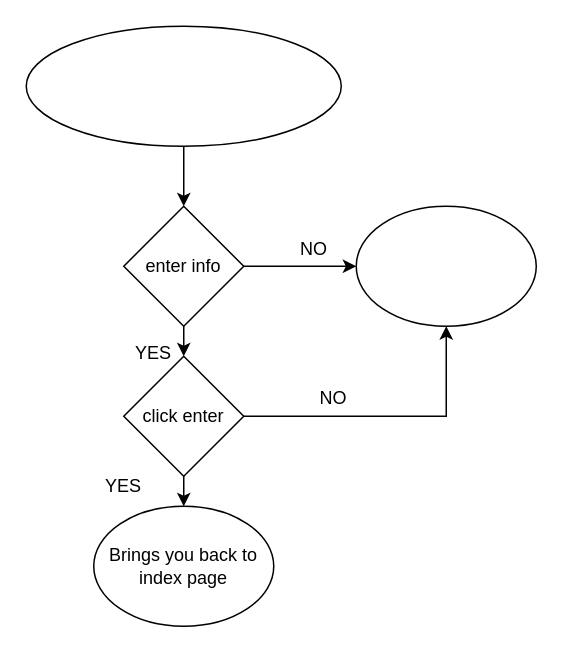
The diagram is 563 pixels wide and 653 high, and some of its shapes have lost their labels. The shapes that lost their labels are listed below. From the top down, each one's centre as x and y in pixels, then its label:
At [183,85]: "Login page".
At [445,265]: "nothing happens".
